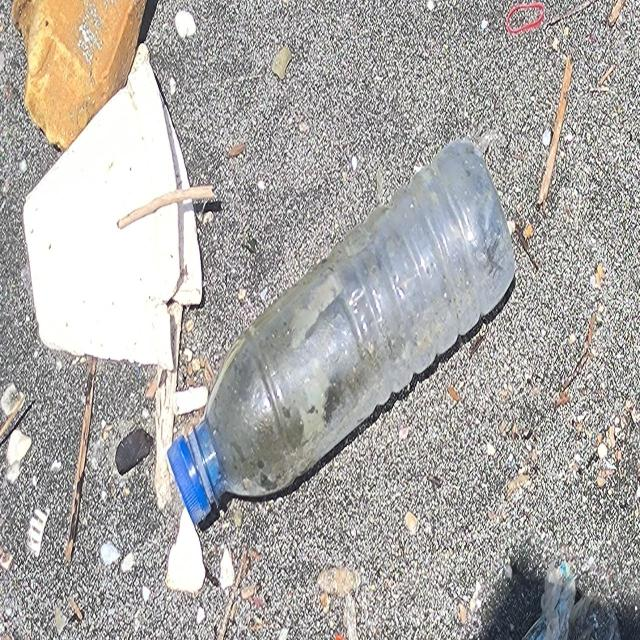plastic_waste: (167, 138, 518, 530)
styrofoam_waste: (23, 42, 205, 374)
